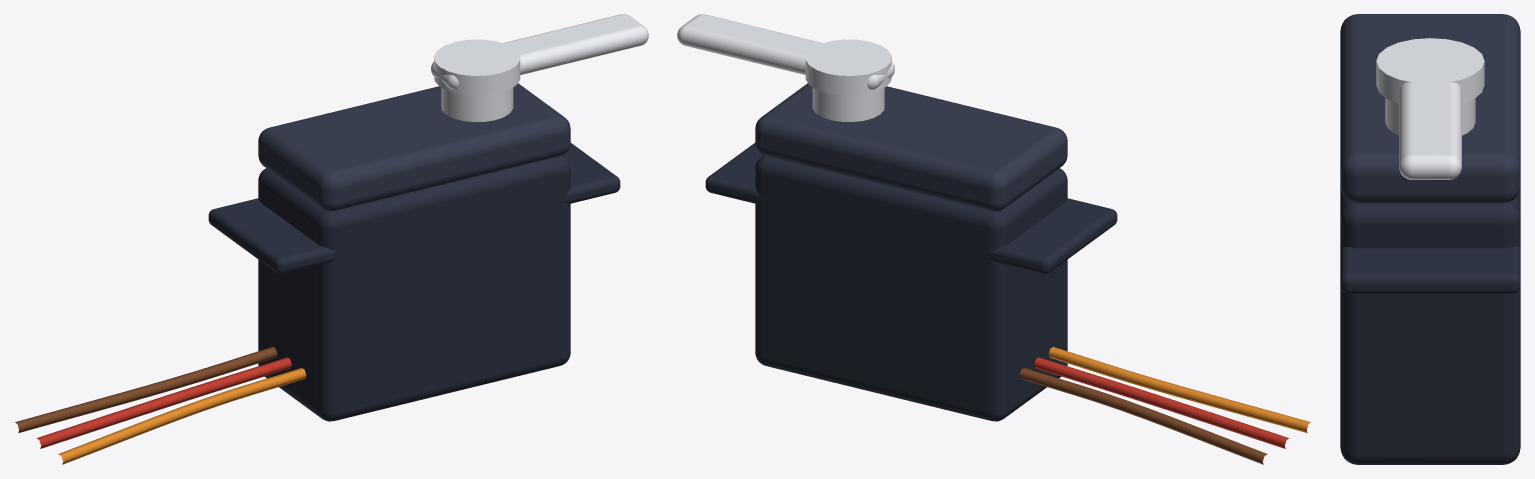
The model's file is servo.glb.
3 views of the same model, side by side, from view 1: azimuth 30°, elevation 25°; view 2: azimuth 150°, elevation 25°; view 3: azimuth 270°, elevation 25° (orthographic). The views are drawn at different scales.
Parts seen in each view (by area): view 1: shell, cap, tabs, arm, horn, wire0, wire1, wire2, servo; view 2: shell, cap, tabs, arm, horn, wire2, wire1, wire0, servo; view 3: shell, cap, tabs, arm, horn, servo.
Boxes of the visible parts, x1,y1,x2,y2 form: shell: [258, 155, 570, 421]; cap: [258, 83, 570, 211]; tabs: [208, 143, 620, 274]; arm: [431, 14, 648, 89]; horn: [434, 39, 520, 95]; wire0: [15, 346, 277, 432]; wire1: [37, 357, 291, 448]; wire2: [58, 368, 306, 464]; servo: [441, 87, 513, 121]; shell: [755, 155, 1067, 421]; cap: [755, 83, 1067, 211]; tabs: [705, 143, 1117, 274]; arm: [677, 14, 894, 89]; horn: [805, 39, 891, 95]; wire2: [1048, 346, 1310, 432]; wire1: [1034, 357, 1288, 448]; wire0: [1019, 368, 1267, 464]; servo: [812, 87, 884, 121]; shell: [1340, 187, 1520, 464]; cap: [1340, 14, 1520, 203]; tabs: [1340, 246, 1520, 294]; arm: [1399, 44, 1461, 179]; horn: [1376, 38, 1484, 103]; servo: [1385, 98, 1475, 135].
Bounding box in the file's own units: 0.0961 × 0.0455 × 0.02.
